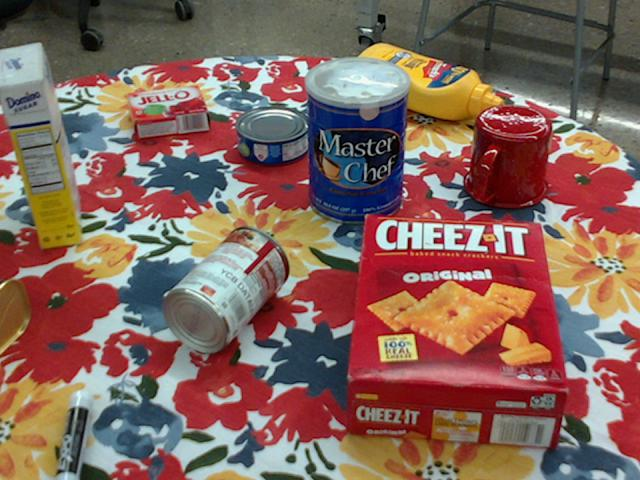cracker_box: (345, 217, 568, 448)
gelatin_box: (127, 87, 208, 141)
large_marker: (52, 389, 93, 479)
master_chef_can: (307, 57, 412, 226)
mug: (463, 106, 553, 210)
mustard_bottle: (349, 43, 503, 120)
potted_meat_can: (0, 277, 29, 351)
sugar_box: (0, 41, 82, 248)
tomato_soup_can: (162, 226, 288, 354)
tuna_fish_can: (235, 106, 309, 166)
